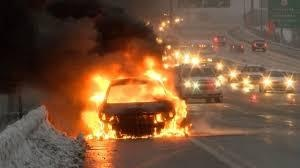fire: (81, 46, 192, 138)
